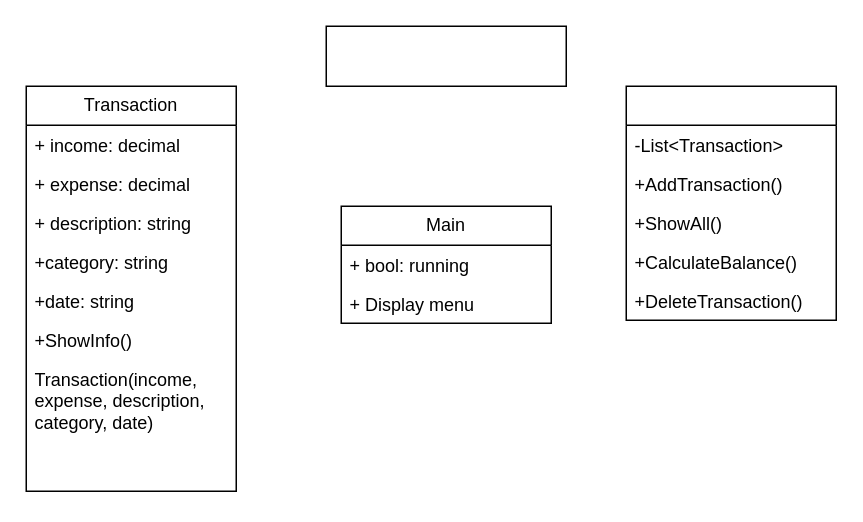
This 863x522 diagram has some shape labels left out. Here are the shapes that lost their labels. From the top down, the box of each, then its label:
(325, 25, 566, 86): Personal Budget Tracker
(625, 85, 836, 320): BudgetManager
